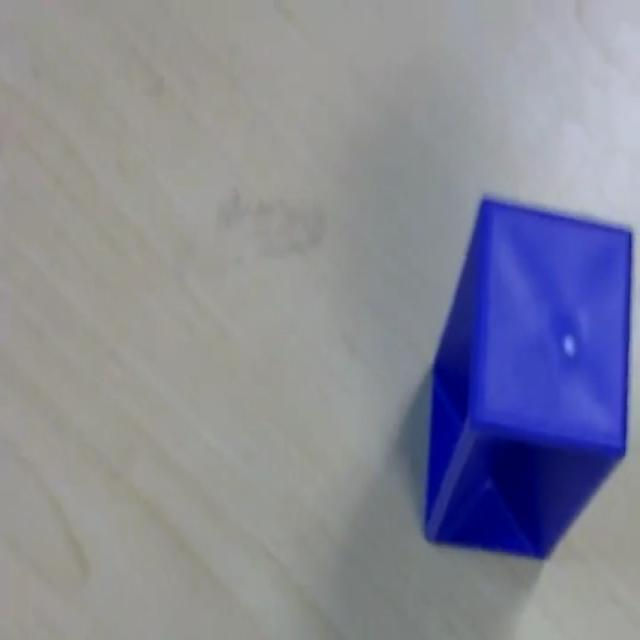blue_block: (422, 192, 633, 560)
